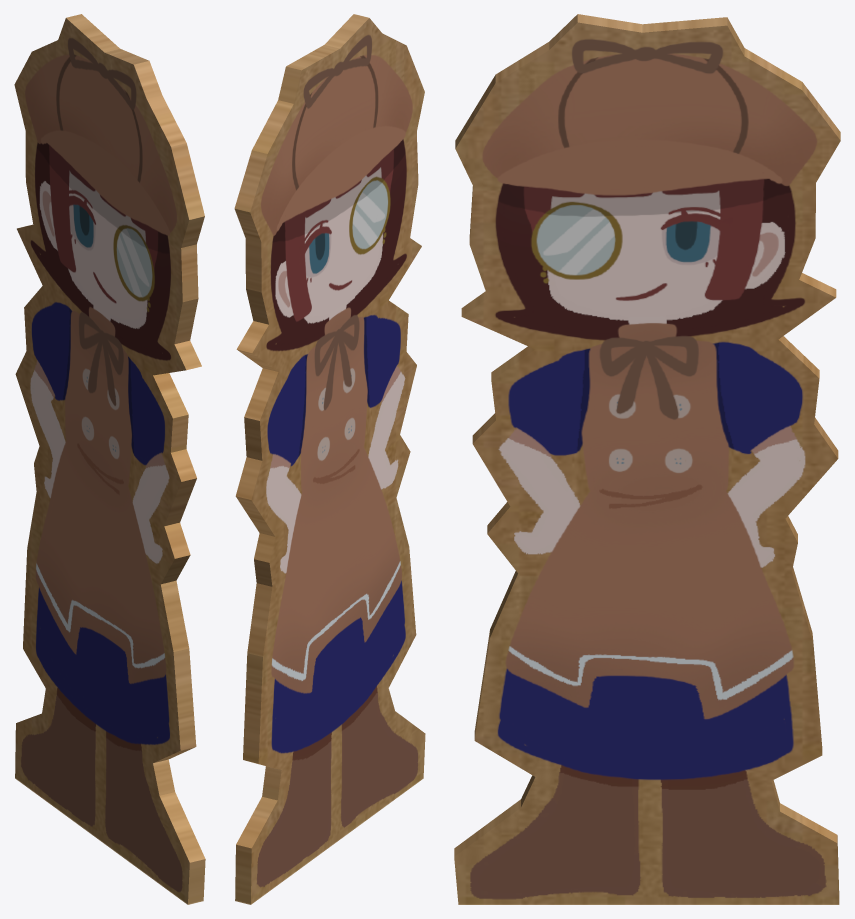
File: NPC_Base_4_PrivateInvestigator.glb
3 renders of one model, left to right at view 1: azimuth 30°, elevation 25°; view 2: azimuth 150°, elevation 25°; view 3: azimuth 270°, elevation 25°, orthographic. The views are drawn at different scales.
Visible parts, largest first — view 1: NPC_Base_4_PrivateInvestigator; view 2: NPC_Base_4_PrivateInvestigator; view 3: NPC_Base_4_PrivateInvestigator.
Part boxes in pixels (box(x1,y1,x2,y2)): NPC_Base_4_PrivateInvestigator: box(14, 14, 205, 904); NPC_Base_4_PrivateInvestigator: box(234, 14, 425, 904); NPC_Base_4_PrivateInvestigator: box(454, 14, 840, 904).
Bounding box in the file's own units: 0.0407 × 1.98 × 0.7844.
Materials: 1 (1 with a texture image).
